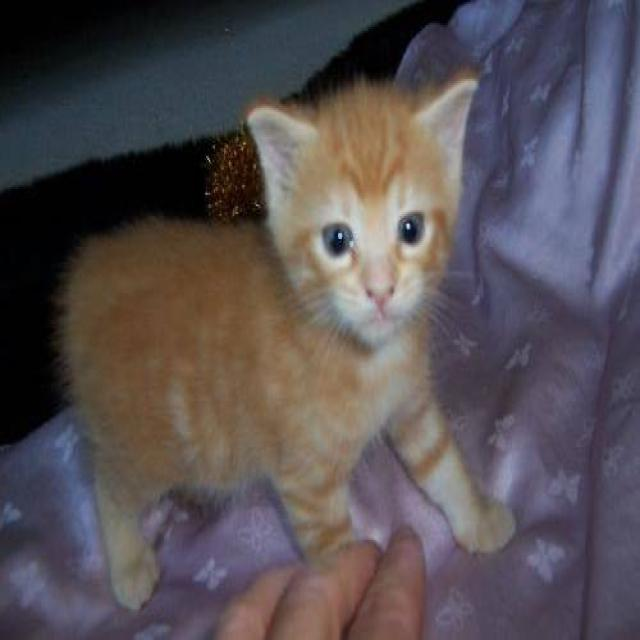cat: (53, 66, 517, 609)
